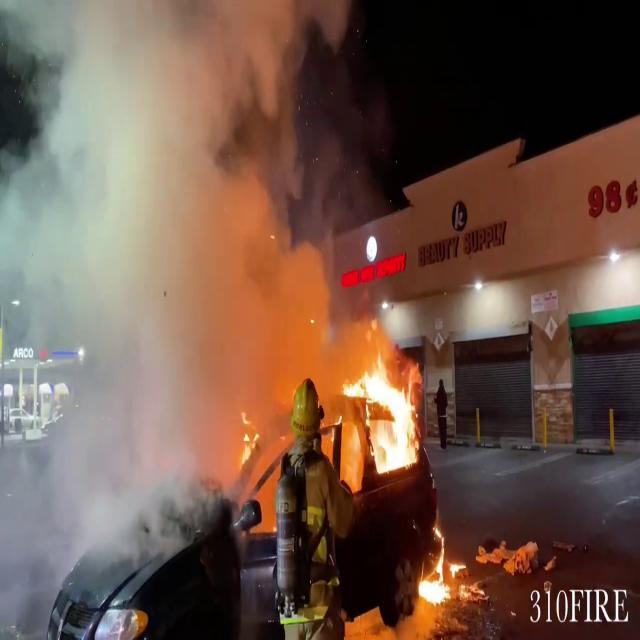Fire: (334, 348, 426, 487), (416, 521, 462, 612)
Smoke: (0, 0, 346, 555)
